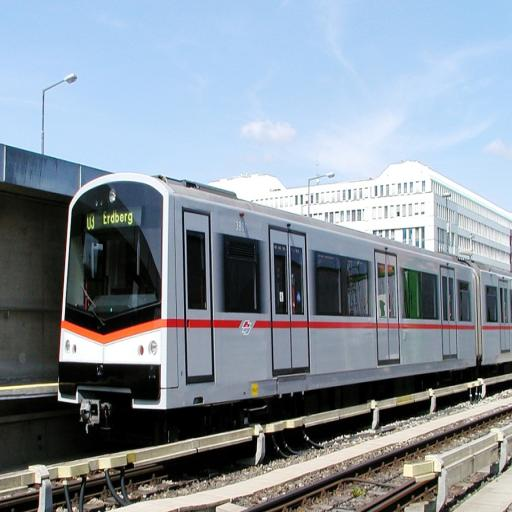V-Wagen: (55, 168, 512, 436)
